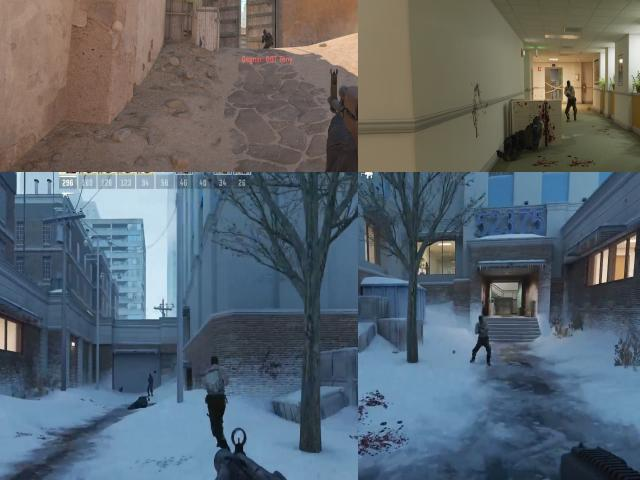CT: (128, 396, 151, 412), (145, 372, 156, 394), (263, 28, 273, 48)
CT-Head: (263, 29, 267, 35)
Dead: (496, 116, 549, 157)
T: (202, 365, 230, 405), (562, 79, 578, 119), (474, 314, 491, 348)
T-Head: (208, 354, 221, 374), (475, 316, 487, 326), (566, 80, 571, 88)
